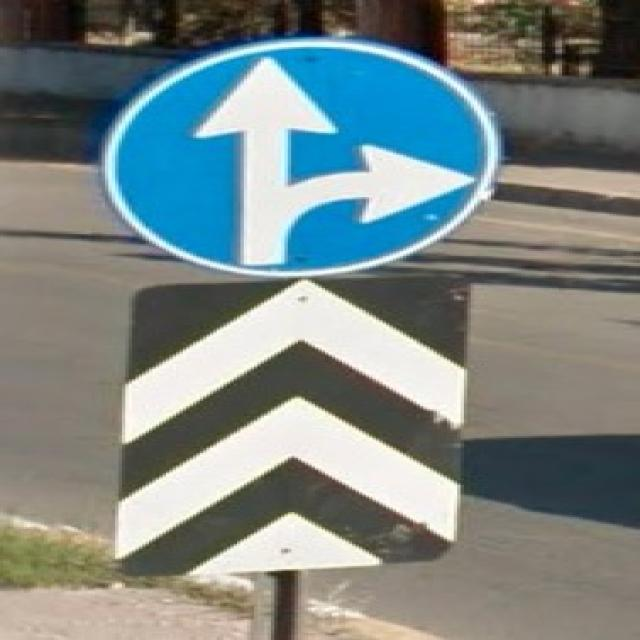Straight or Right: (106, 38, 482, 274)
